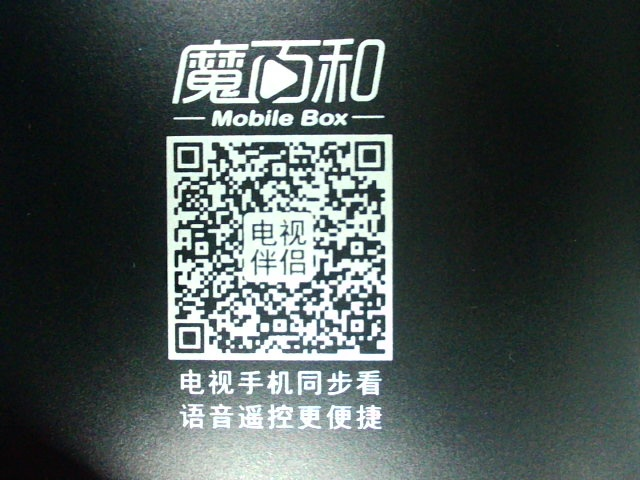AZ_MobileBox: (158, 34, 398, 435)
